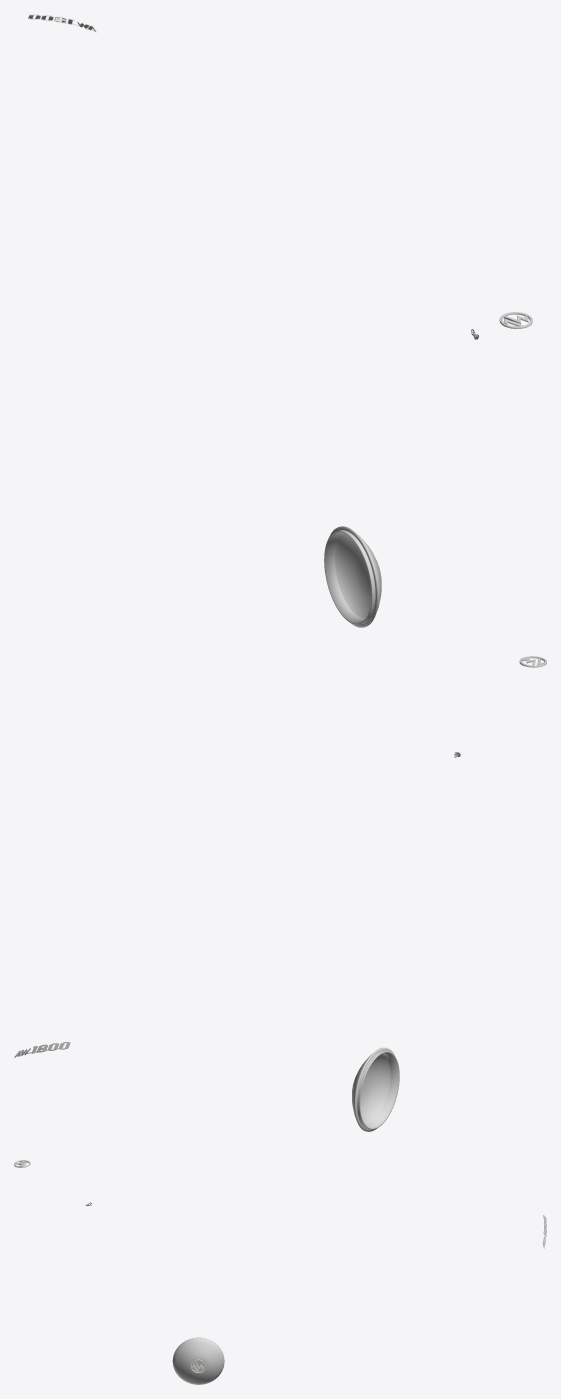
File: Bug.Branding.AW.dae
3 views of the same model, one above another, from view 1: azimuth 30°, elevation 25°; view 2: azimuth 150°, elevation 25°; view 3: azimuth 270°, elevation 25° (orthographic). The views are drawn at different scales.
Visible parts, largest first — view 1: hubcap_smooth_logo_paint; view 2: hubcap_smooth_logo_paint; view 3: hubcap_smooth_logo_paint.
Boxes of the visible parts, box(x1,y1,x2,y2) form: hubcap_smooth_logo_paint: box(324, 526, 381, 627); hubcap_smooth_logo_paint: box(352, 1047, 399, 1131); hubcap_smooth_logo_paint: box(172, 1337, 224, 1384).
Bounding box in the file's own units: 0.3305 × 2.61 × 1.18.
